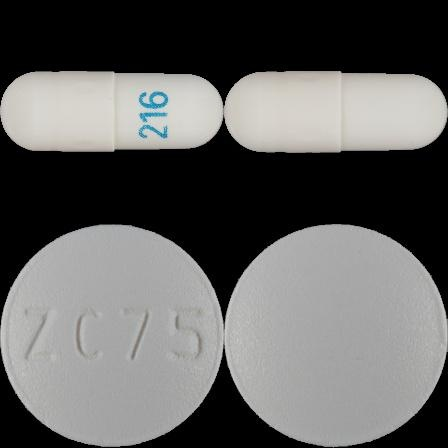58118-0076: (0, 0, 224, 224)
